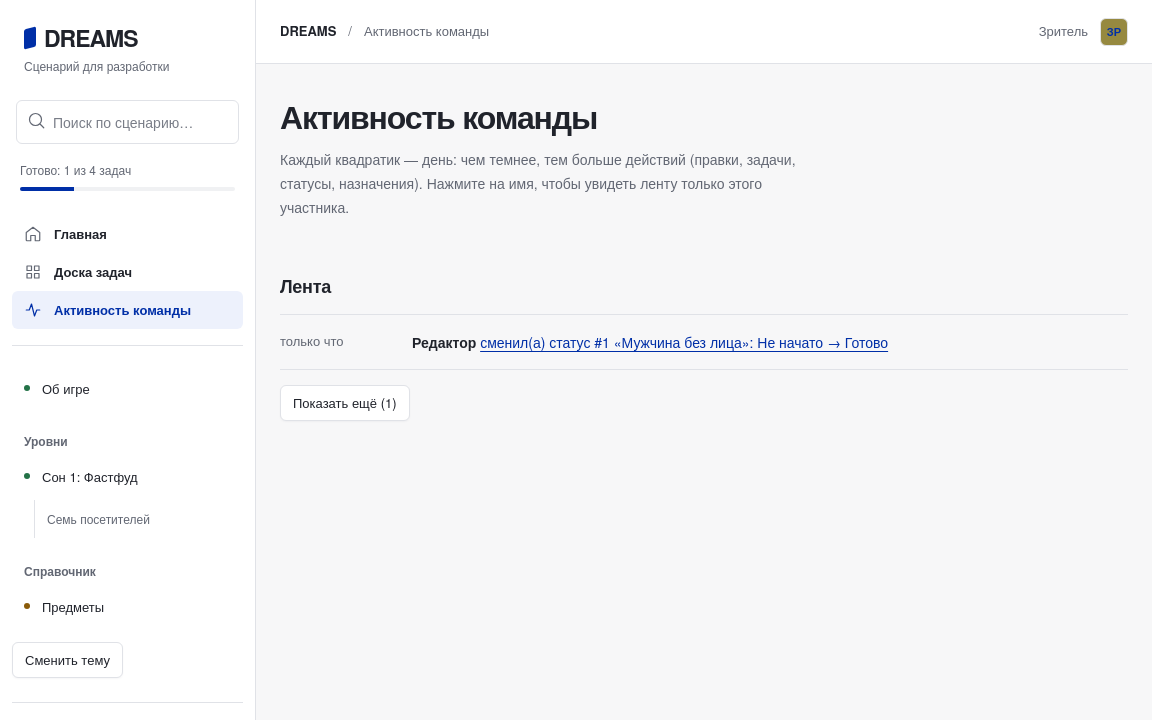
ActivityPage › loads more pages
Click the button "Показать ещё (1)".
click(345, 403)  # box [280, 385, 410, 422]
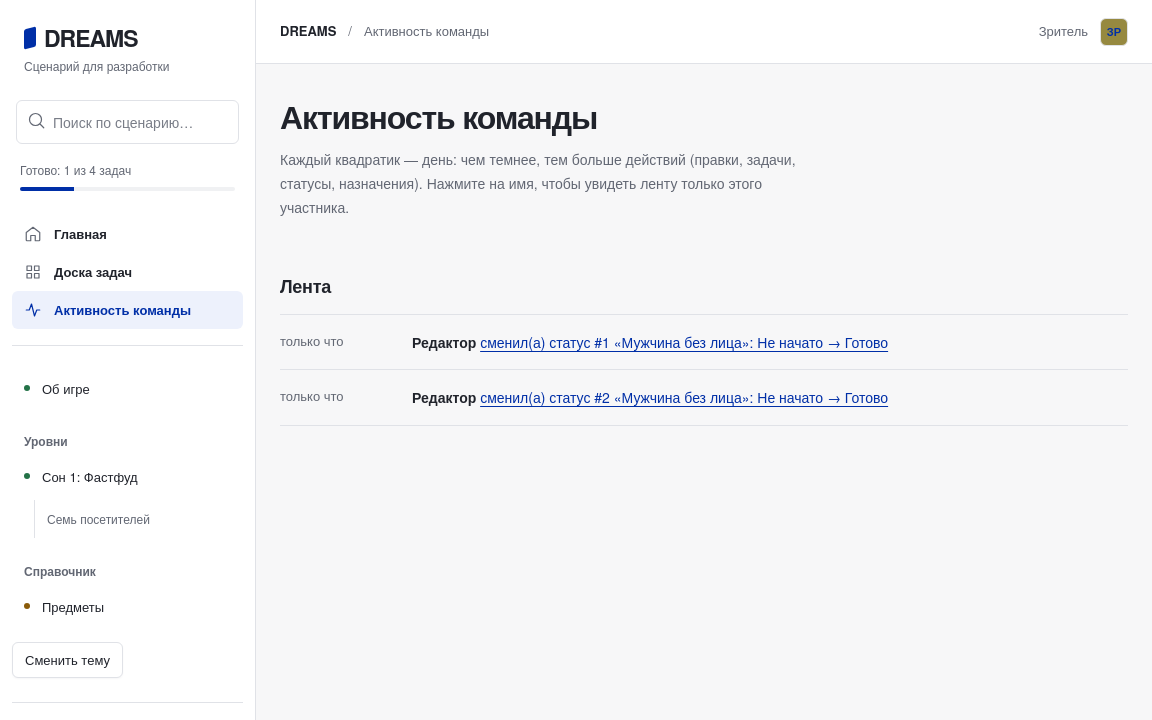
Now the button "Показать ещё" is gone
